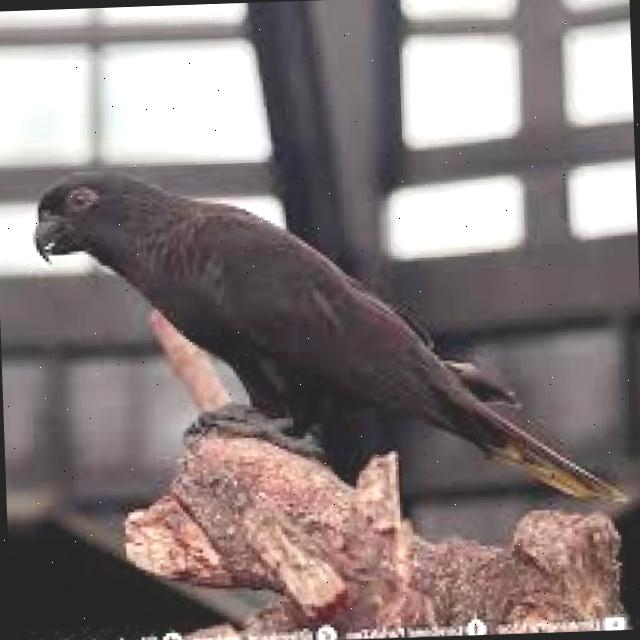Nuri Hitam: (24, 110, 630, 544)
